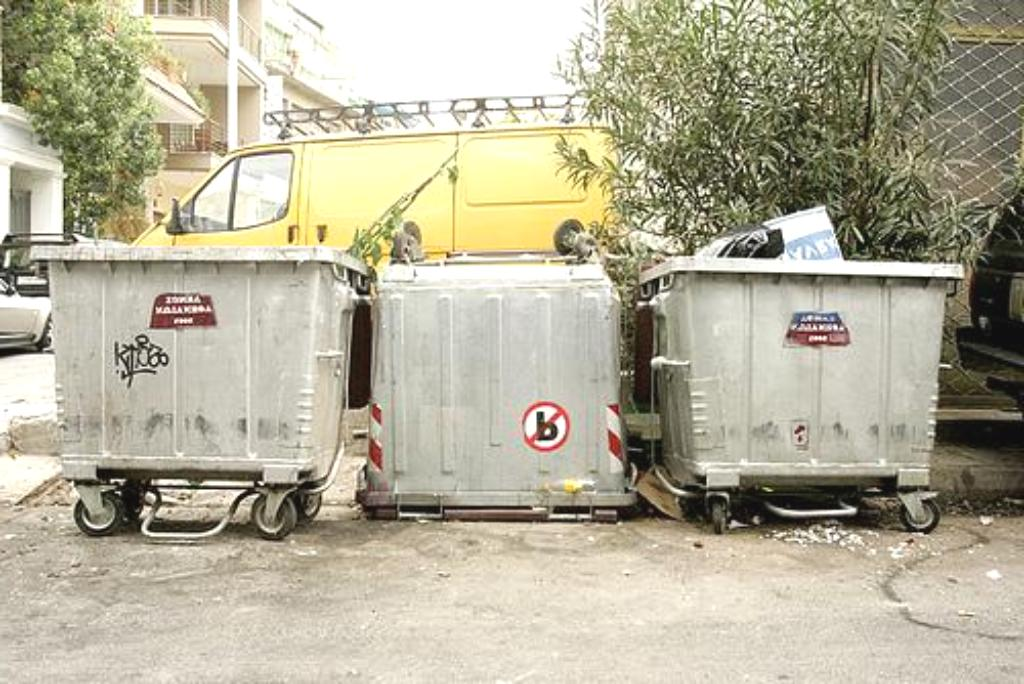dustbin: (37, 237, 364, 541), (637, 252, 959, 542)
